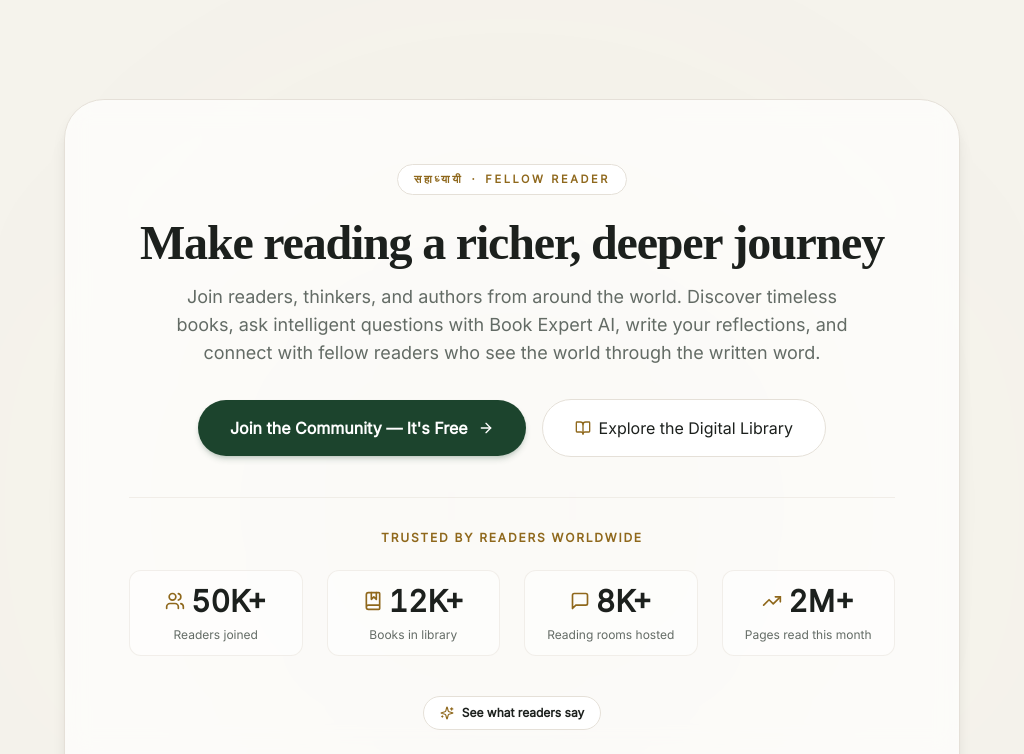
Test: HomeFinalCtaSection › toggles testimonials display when clicking the button
Expected: the text "Priya Sharma" is not shown
# Click to show testimonials
Step 1. Click the button "See what readers say" → click(512, 712), box [423,696,601,730]
(page scrolled)
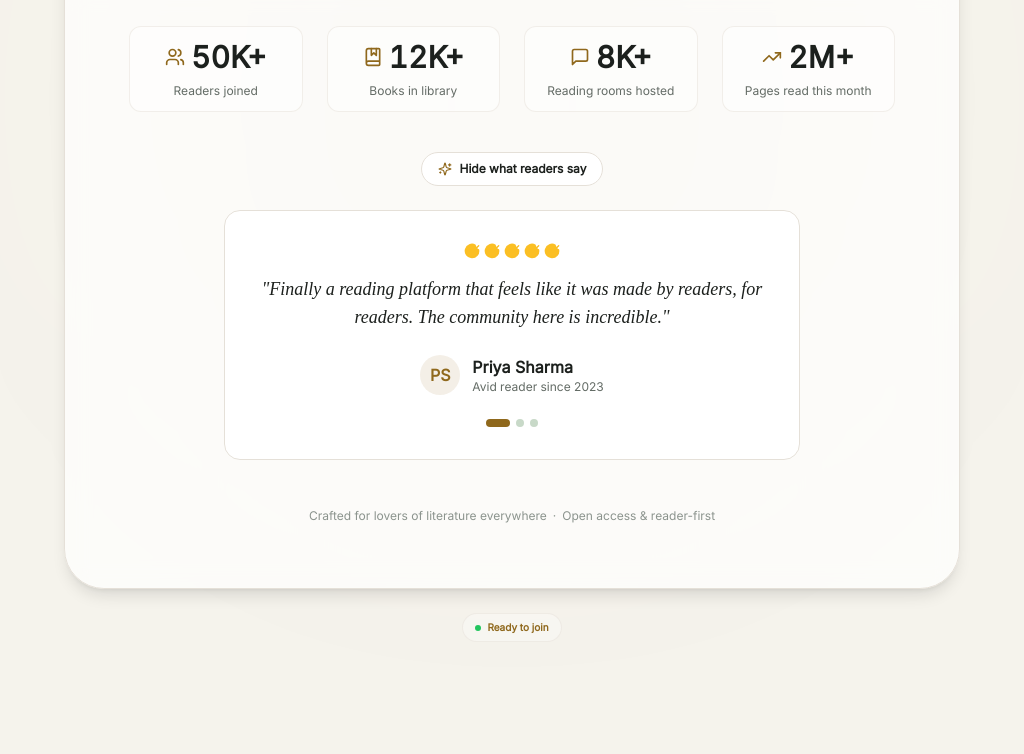
Expected: the text "Priya Sharma" is shown, [472,356,573,376]
Expected: the text "Hide what readers say" is shown, [460,160,586,176]
# Test clicking pagination dot for Marcus Chen
Step 2. Click the button named "Go to testimonial 2" → click(520, 422), box [516,418,524,426]
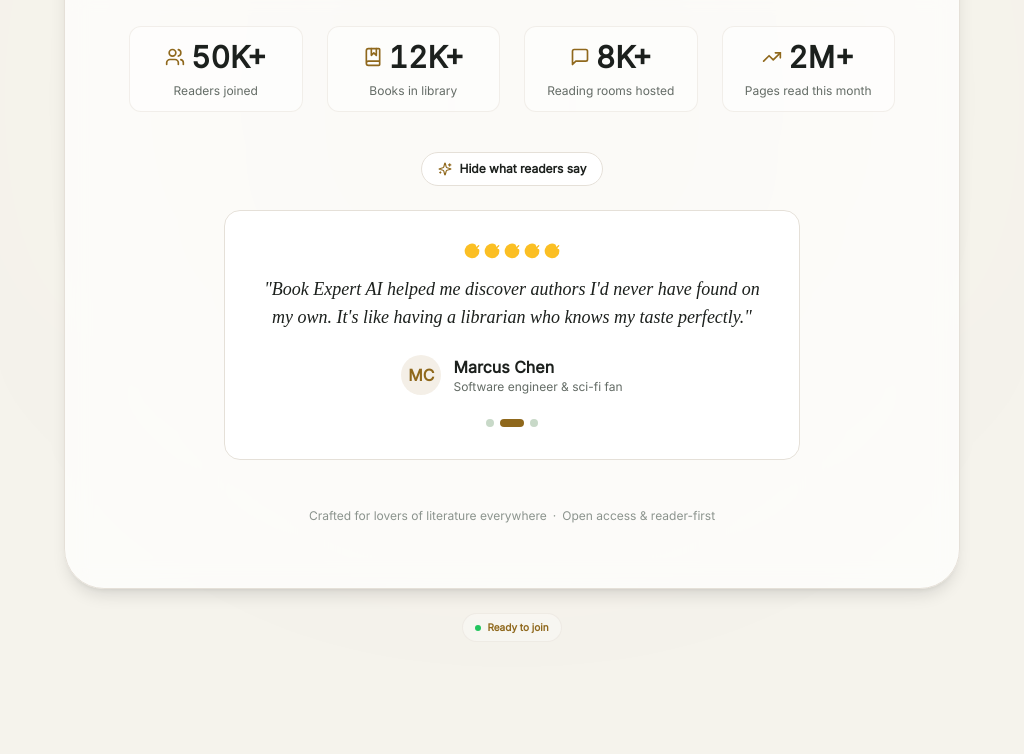
Expected: the text "Marcus Chen" is shown, [453,356,554,376]
# Click to hide testimonials
Step 3. Click the button "Hide what readers say" → click(512, 168), box [420,152,603,186]
(page scrolled)
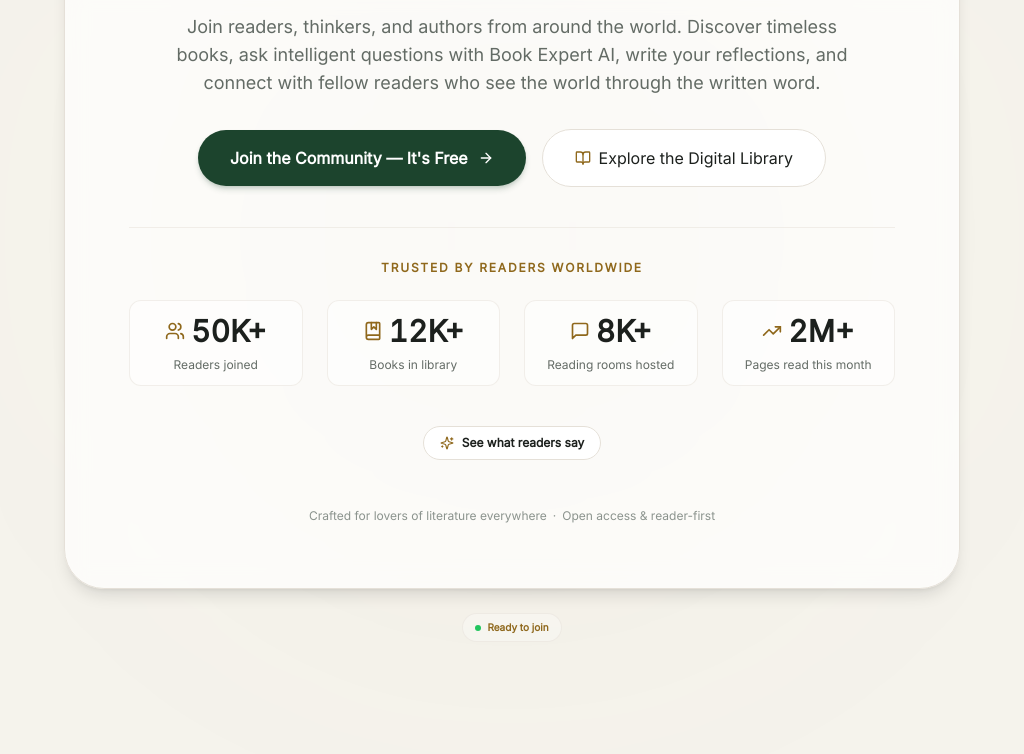
Expected: the text "Marcus Chen" is gone
